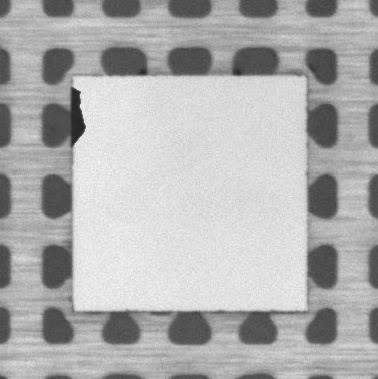DIE_BROKEN: (68, 81, 84, 151)
